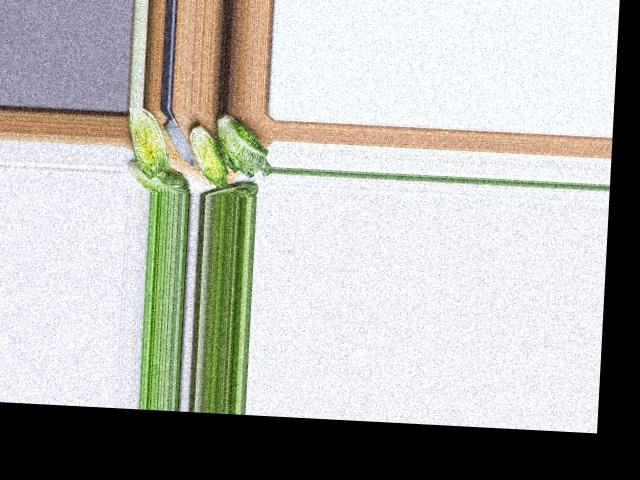lettuce: (127, 161, 190, 191)
